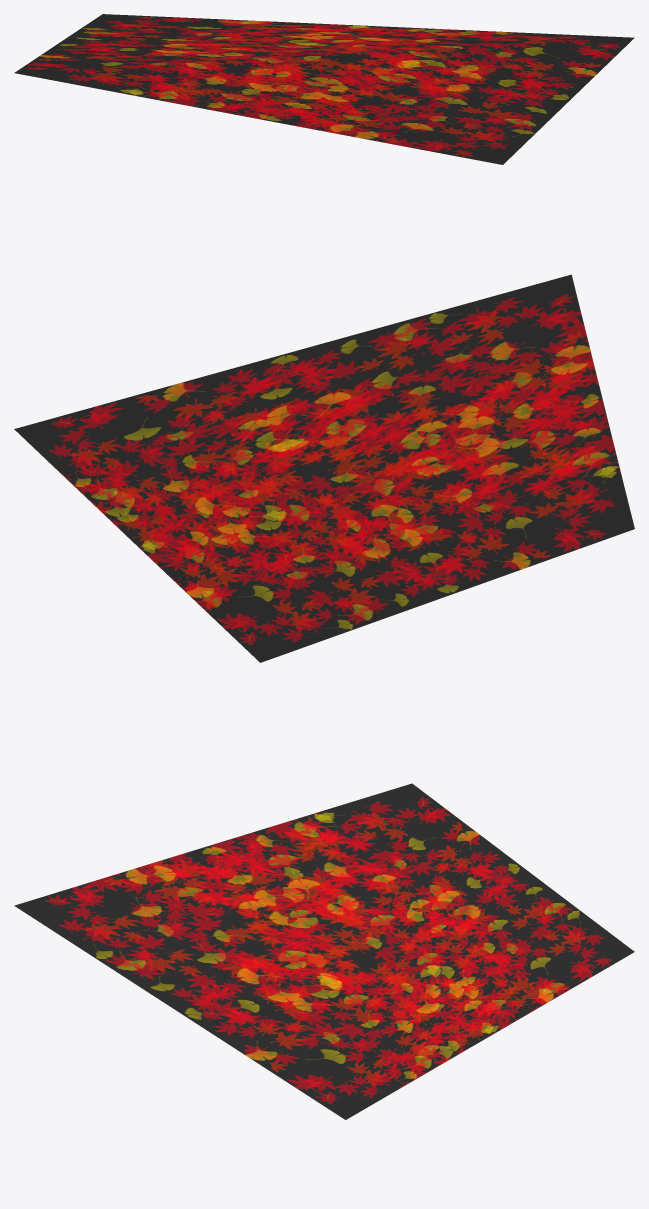
The model's file is OBJ_CourseAki_CurveFloor_4_3.fbx.
3 views of the same model, one above another, from view 1: azimuth 30°, elevation 25°; view 2: azimuth 150°, elevation 25°; view 3: azimuth 270°, elevation 25° (orthographic). The views are drawn at different scales.
Visible parts, largest first — view 1: polySurface262; view 2: polySurface262; view 3: polySurface262.
Part boxes in pixels (x1,y1,x2,y2): polySurface262: (14,14,634,164); polySurface262: (14,274,634,662); polySurface262: (14,783,634,1119).
Bounding box in the file's own units: 7.57 × 2 × 7.57.
1 material, 1 textured.
